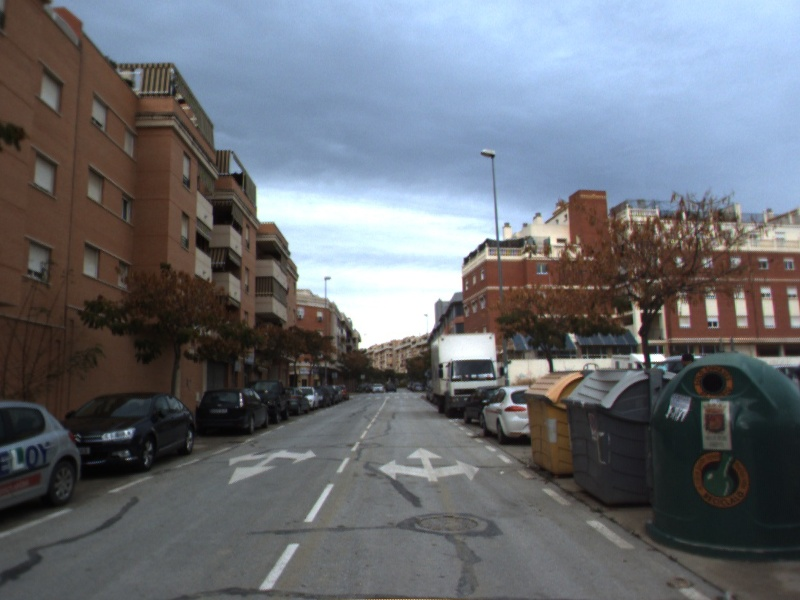STRAIGHT_LEFT_RIGHT: (376, 445, 481, 483)
